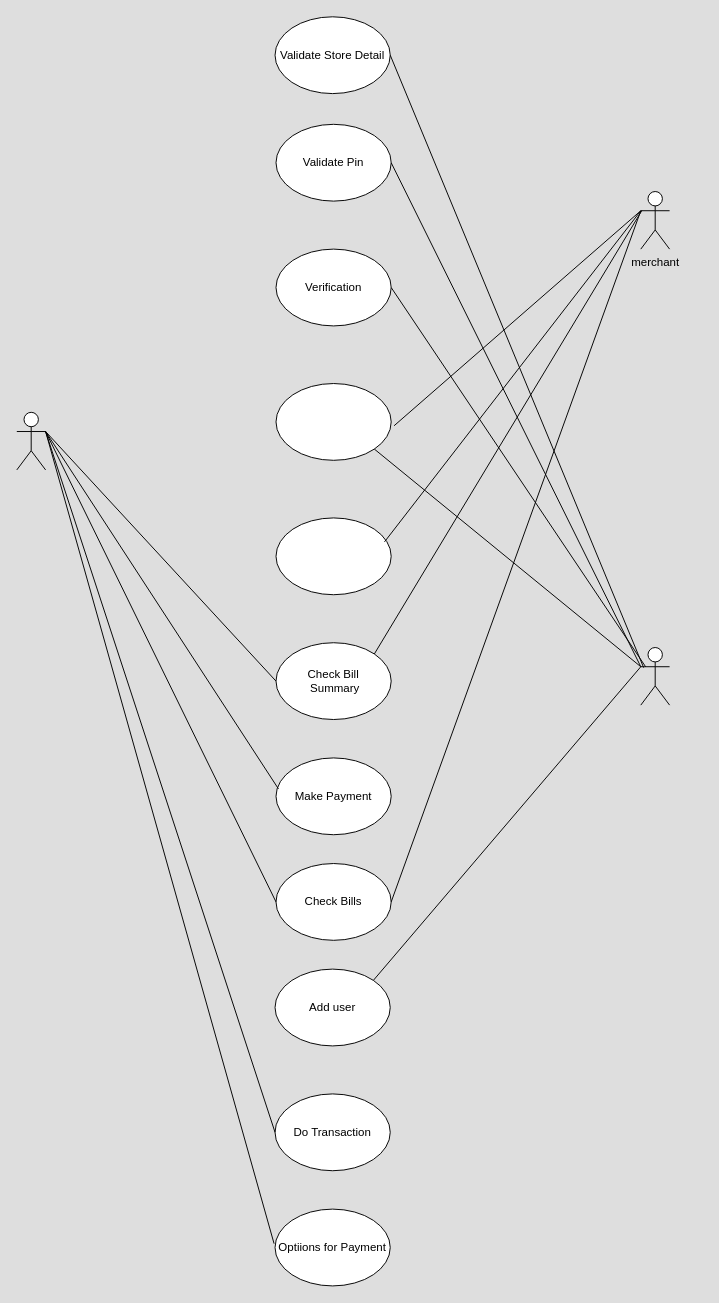
This 719x1303 diagram has some shape labels left out. The centre of each missing label's shape, as x and y in pixels:
Manage Bills: (x=333, y=556)
Manage Users: (x=333, y=421)
Payment Gateway: (x=655, y=676)
User: (x=31, y=440)
